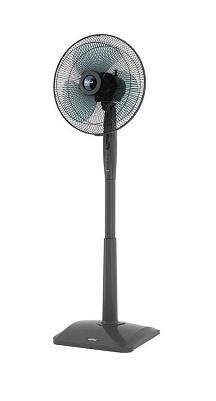fan: (43, 19, 153, 401)
